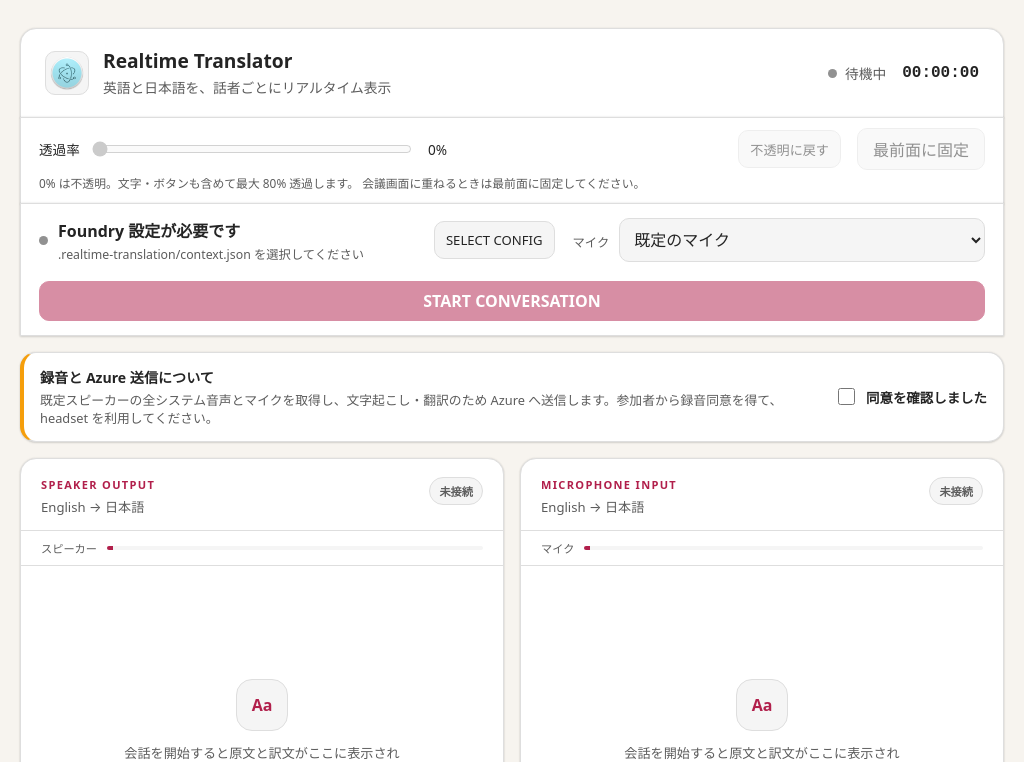
Test: browser authentication flow › completes authentication and both Foundry requests before capturing or recording audio
Click the checkbox labelled "同意を確認しました" at (846, 397), box [838, 388, 855, 405]
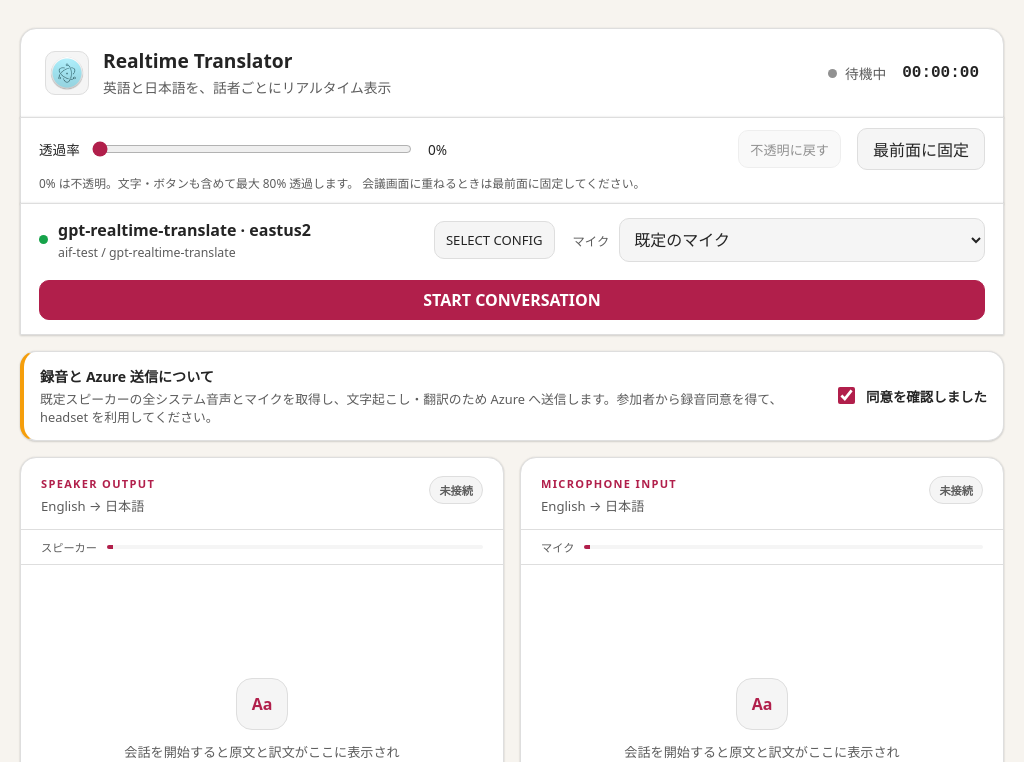
Result: the button "START CONVERSATION" is enabled
Click the button "START CONVERSATION" at (512, 300), box [39, 280, 985, 320]
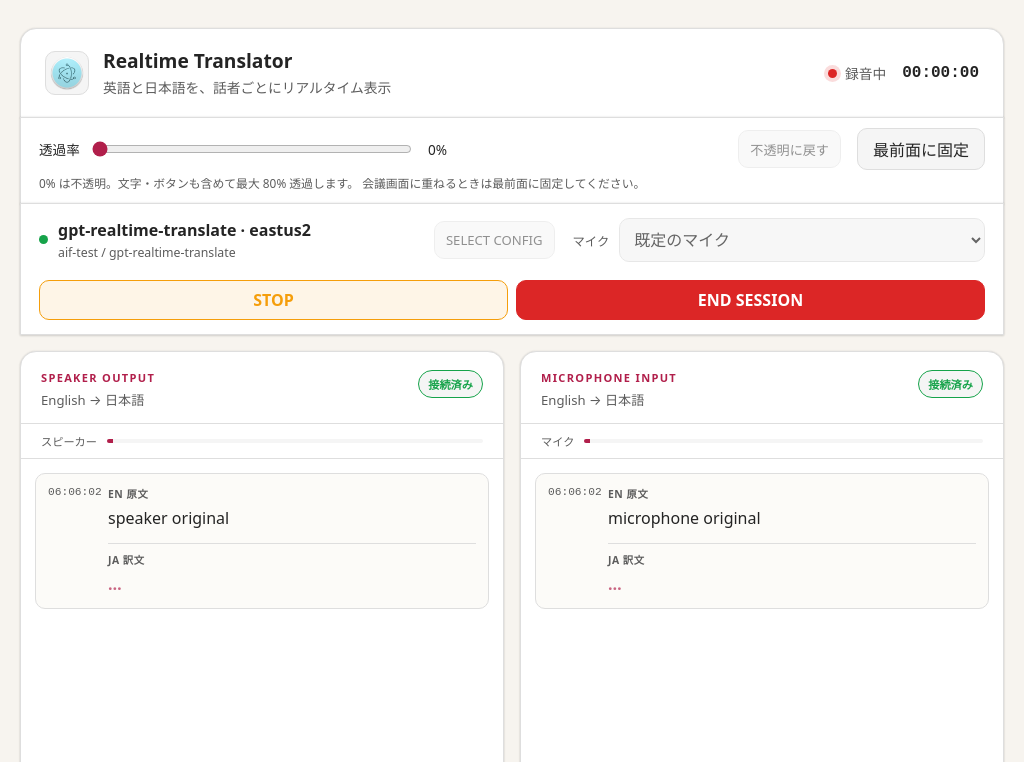
Result: the button "STOP" is shown at [39, 280, 508, 320]
